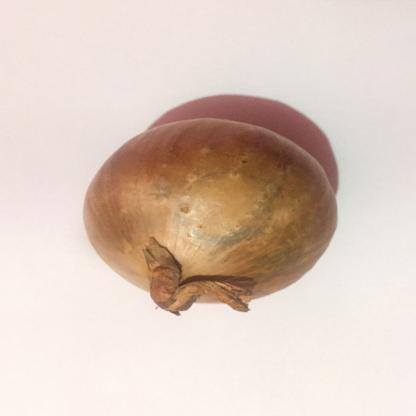onion: (75, 107, 349, 325)
